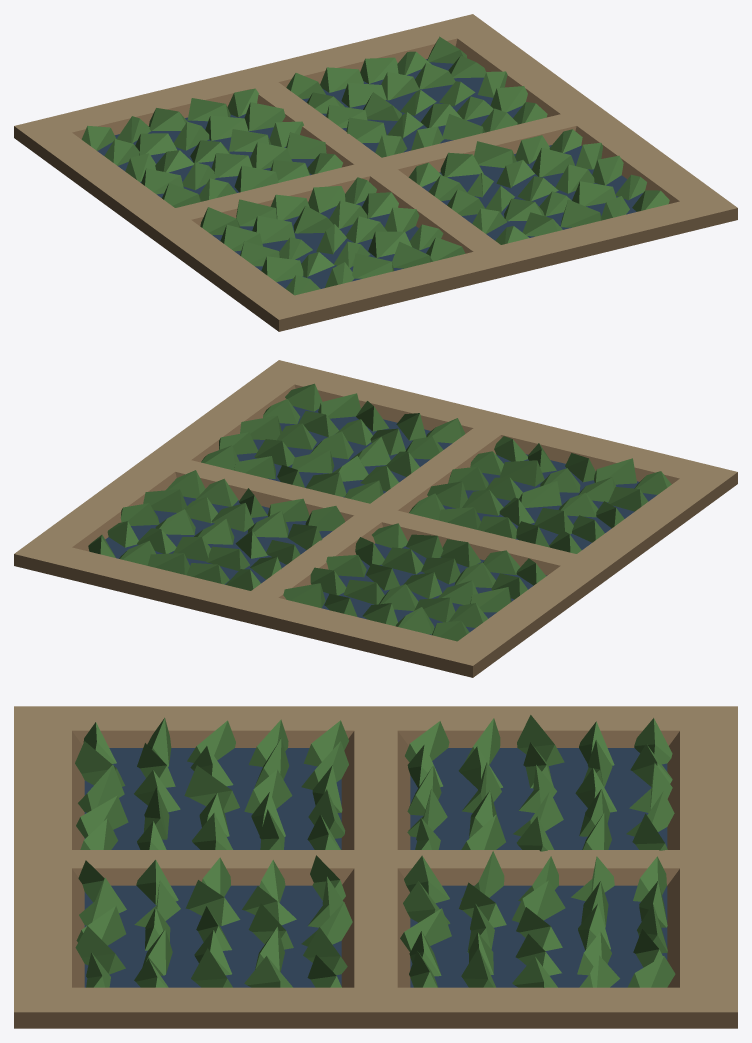
File: rice-paddy-tile-dc727e.glb
3 views of the same model, one above another, from view 1: azimuth 30°, elevation 25°; view 2: azimuth 150°, elevation 25°; view 3: azimuth 270°, elevation 25° (orthographic). The views are drawn at different scales.
Parts seen in each view (by area): view 1: paddy; view 2: paddy; view 3: paddy.
Part boxes in pixels (left/top/right/bottom): paddy: left=14, top=14, right=737, bottom=331; paddy: left=14, top=360, right=737, bottom=677; paddy: left=14, top=706, right=737, bottom=1028.
Size of the model in its own units: 2 by 0.1093 by 2.
